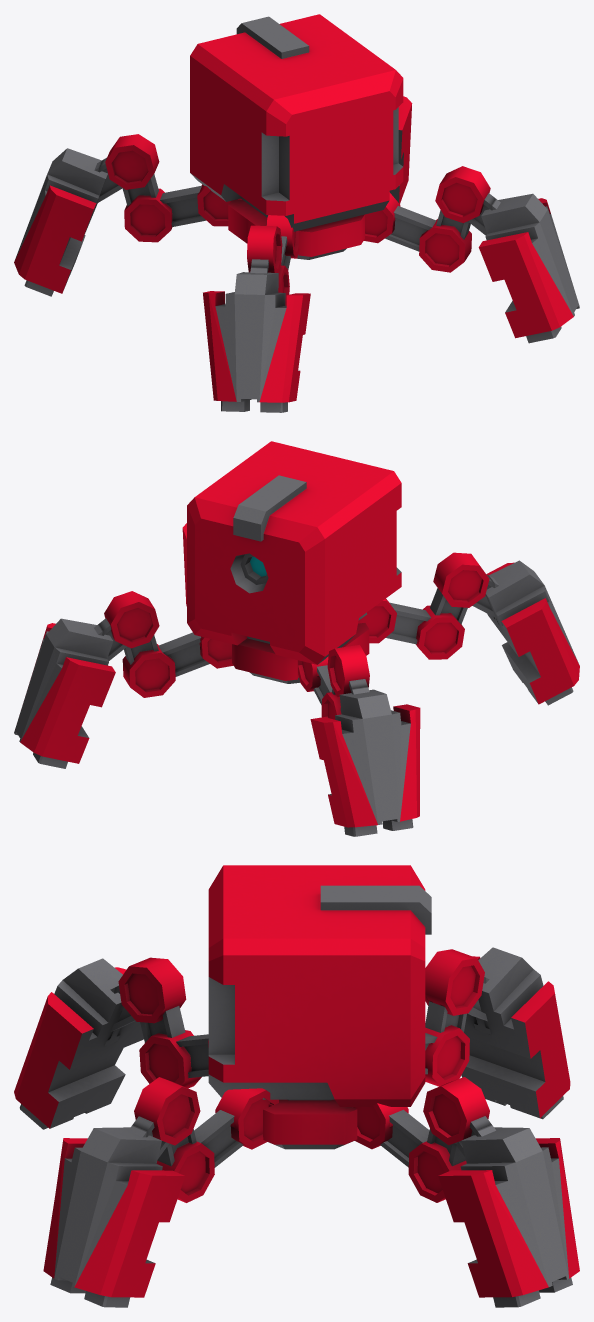
File: Monster1_Attack8.obj
3 views of the same model, one above another, from view 1: azimuth 30°, elevation 25°; view 2: azimuth 150°, elevation 25°; view 3: azimuth 270°, elevation 25° (orthographic). The views are drawn at different scales.
Parts seen in each view (by area): view 1: Box006, Object021, Object017, Object025, Object028, Object020, Object027, Object019, Object018, Object026, Object024, Object013 (+1 smaller); view 2: Box006, Object025, Object013, Object021, Object016, Object024, Object023, Object015, Object022, Object014, Object028, Object026; view 3: Box006, Object013, Object017, Object021, Object025, Object018, Object024, Object016, Object020, Object028, Object023, Object027 (+4 smaller).
Boxes of the visible parts, x1,y1,x2,y2 form: Box006: (190, 14, 403, 259); Object021: (203, 272, 310, 412); Object017: (478, 193, 579, 343); Object025: (14, 148, 107, 296); Object028: (94, 134, 159, 203); Object020: (435, 166, 500, 235); Object027: (122, 174, 172, 242); Object019: (419, 210, 471, 272); Object018: (364, 192, 436, 251); Object026: (160, 184, 241, 226); Object024: (247, 225, 282, 273); Object013: (389, 96, 412, 203); Box006: (187, 441, 401, 683); Object025: (310, 689, 420, 836); Object013: (14, 618, 115, 768); Object021: (485, 560, 579, 705); Object016: (94, 591, 159, 660); Object024: (433, 552, 498, 617); Object023: (416, 588, 467, 659); Object015: (122, 635, 175, 697); Object022: (358, 598, 430, 644); Object014: (158, 632, 233, 676); Object028: (327, 644, 369, 697); Object026: (298, 656, 332, 704); Box006: (208, 865, 431, 1149); Object013: (438, 1127, 579, 1307); Object017: (43, 1127, 185, 1307); Object021: (14, 958, 143, 1129); Object025: (461, 947, 570, 1119); Object018: (194, 1088, 278, 1167); Object024: (110, 957, 186, 1031); Object016: (423, 1077, 495, 1156); Object020: (128, 1077, 200, 1158); Object028: (425, 949, 489, 1021); Object023: (139, 1006, 201, 1088); Object027: (425, 1001, 469, 1086).
Size of the model in its own units: 151 by 93.62 by 154.
